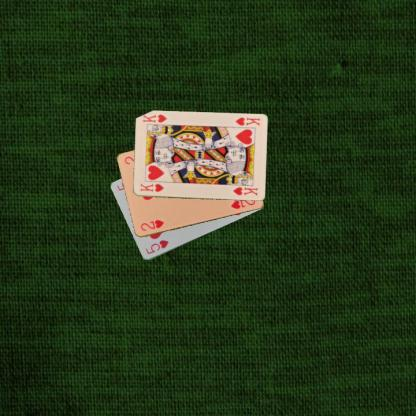2h: (138, 218, 166, 232)
5h: (143, 237, 170, 256)
Kh: (232, 115, 261, 127), (138, 181, 165, 193)
